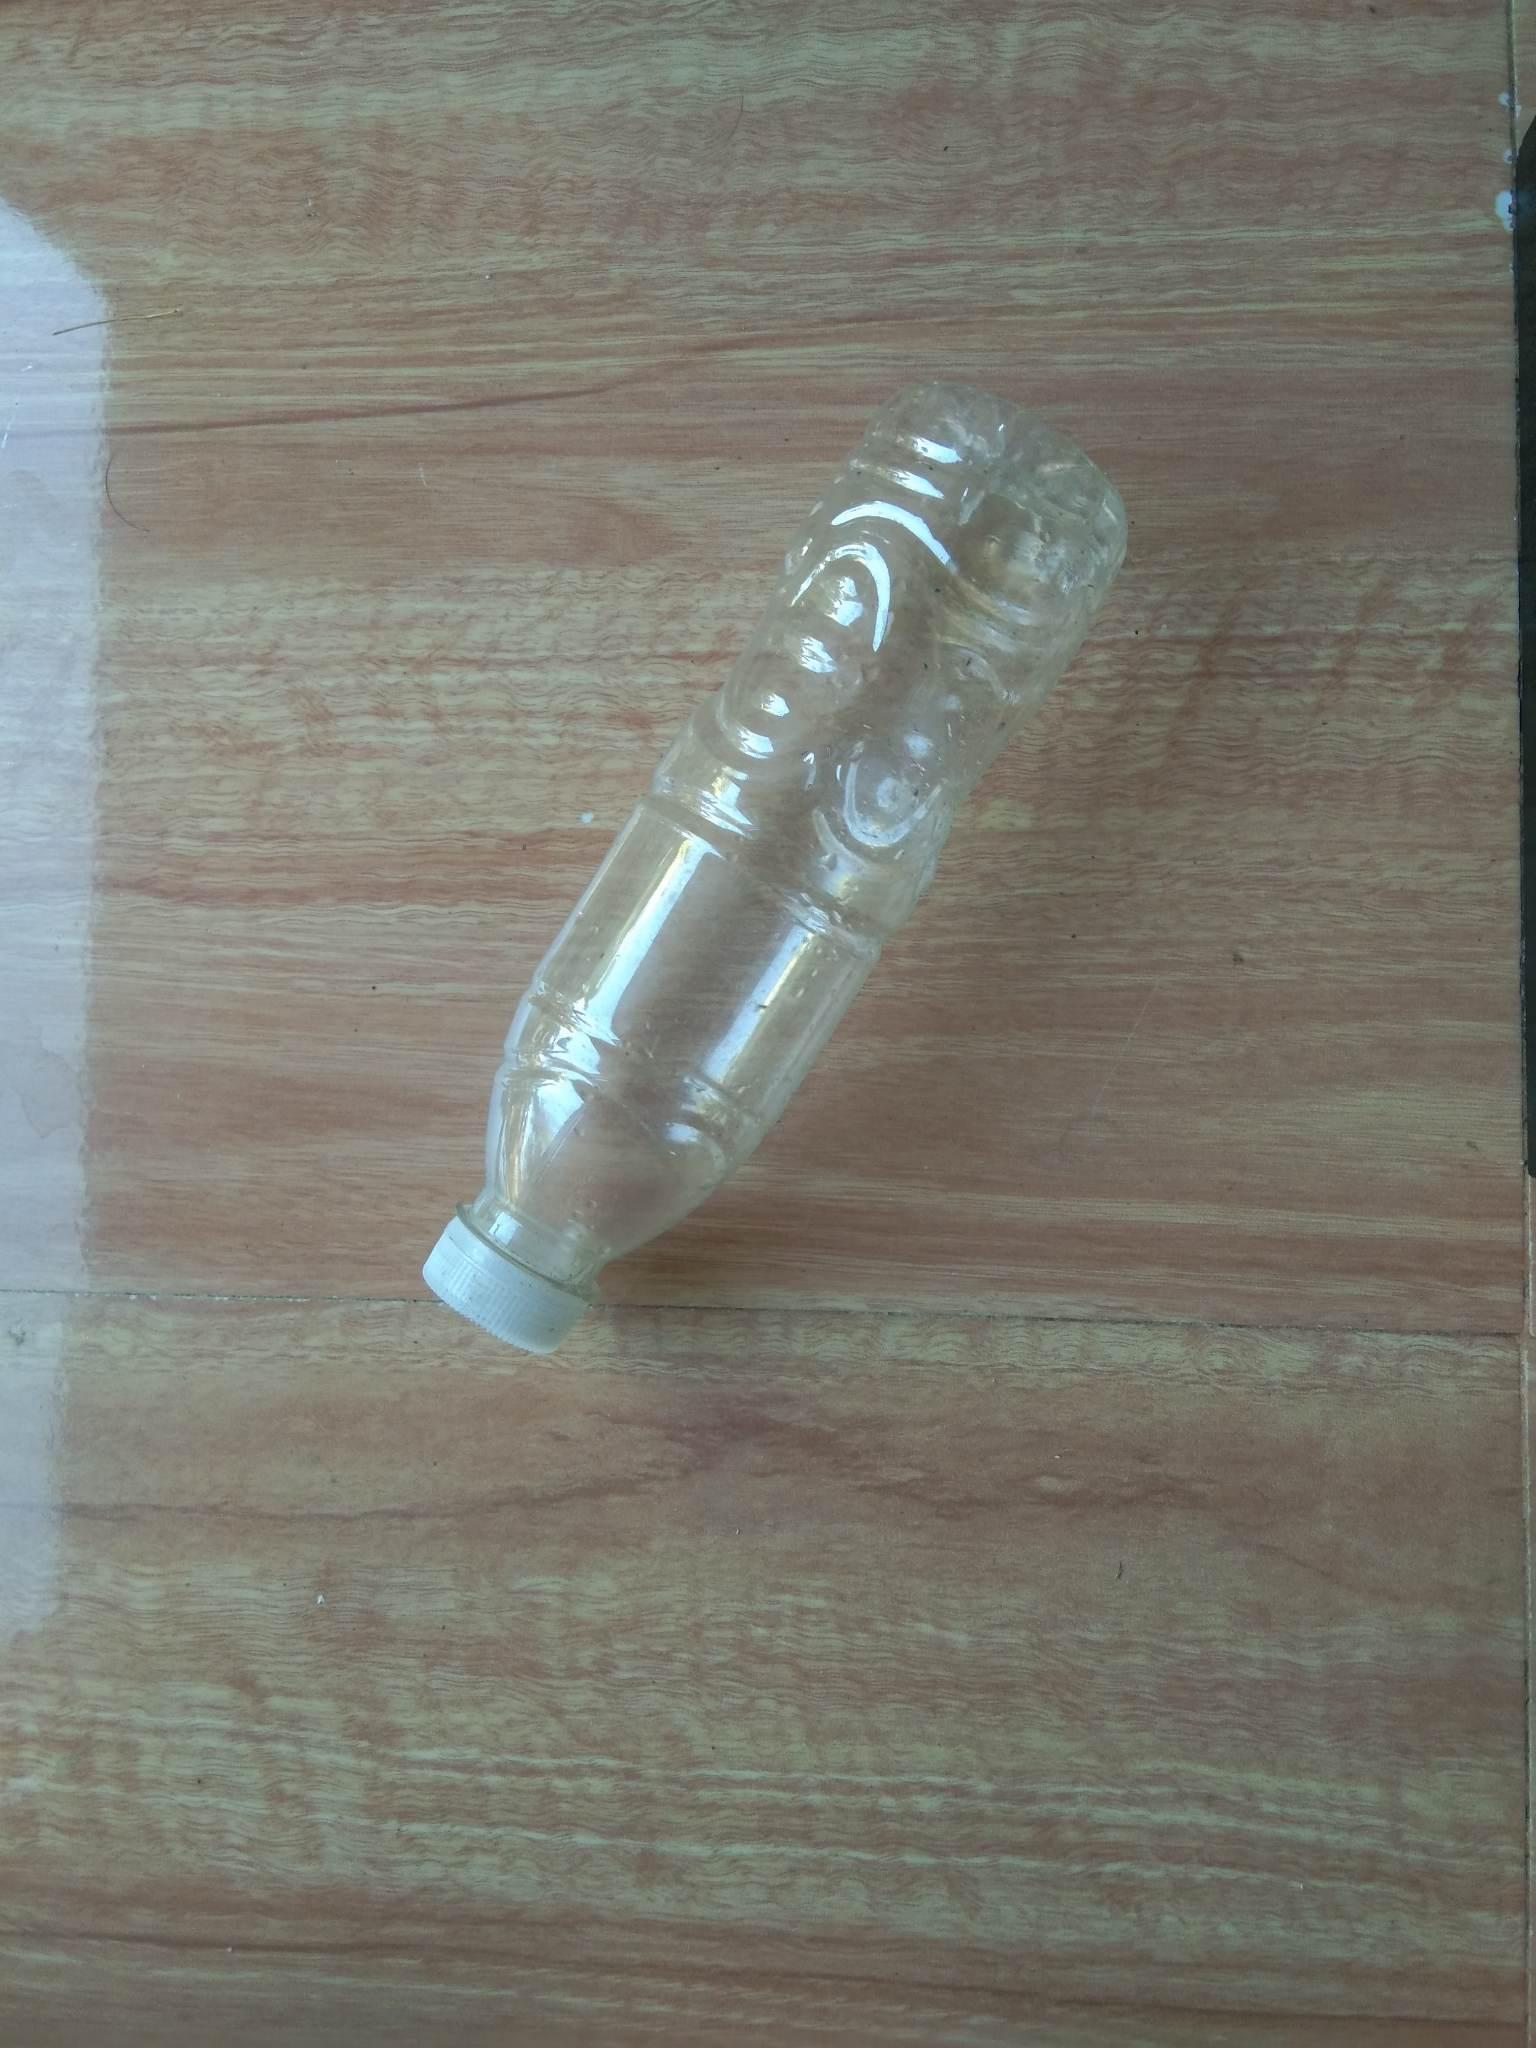plastic: (386, 353, 1175, 1426)
